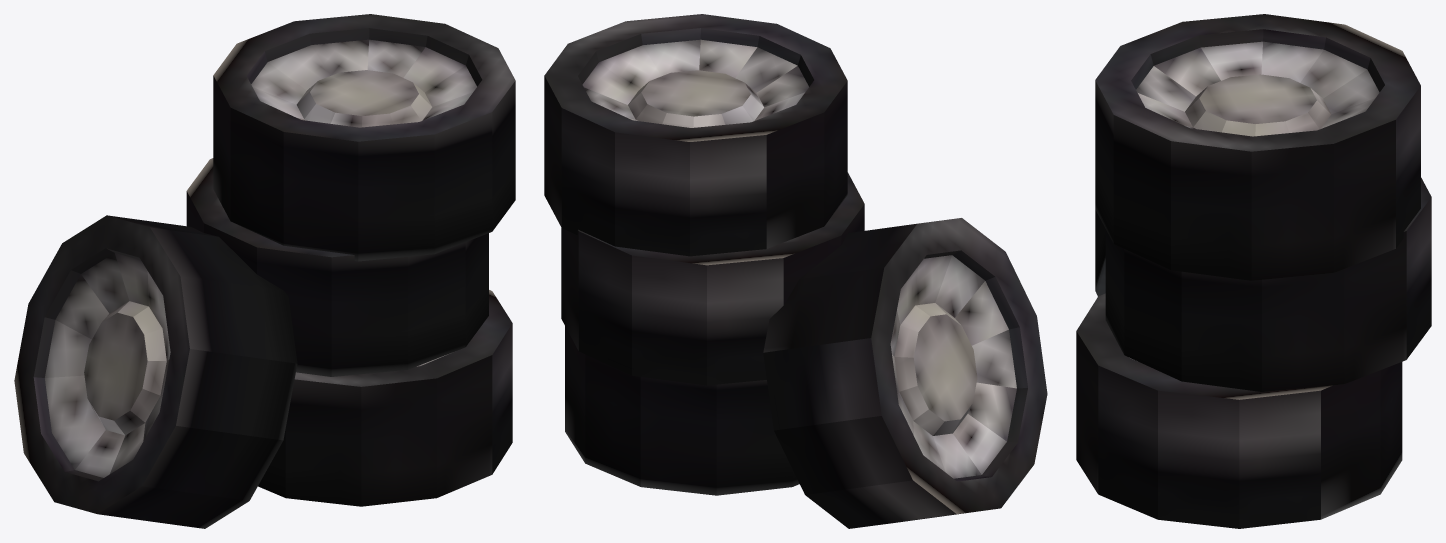
The model's file is tirestack.fbx.
3 views of the same model, side by side, from view 1: azimuth 30°, elevation 25°; view 2: azimuth 150°, elevation 25°; view 3: azimuth 270°, elevation 25° (orthographic). The views are drawn at different scales.
Visible parts, largest first — view 1: Cylinder.003, Cylinder.002, Cylinder.008, Cylinder.001; view 2: Cylinder.003, Cylinder.002, Cylinder.001, Cylinder.008; view 3: Cylinder.002, Cylinder.008, Cylinder.001, Cylinder.003.
Part boxes in pixels (box(x1,y1,x2,y2)): Cylinder.003: box(14, 215, 297, 528); Cylinder.002: box(213, 14, 515, 261); Cylinder.008: box(258, 290, 512, 506); Cylinder.001: box(186, 158, 488, 376); Cylinder.003: box(763, 218, 1047, 528); Cylinder.002: box(544, 14, 847, 256); Cylinder.001: box(561, 172, 864, 385); Cylinder.008: box(565, 326, 799, 495); Cylinder.002: box(1095, 14, 1420, 280); Cylinder.008: box(1076, 293, 1402, 528); Cylinder.001: box(1105, 177, 1431, 391); Cylinder.003: box(1095, 210, 1105, 296).
Size of the model in its own units: 192 by 164 by 125.
